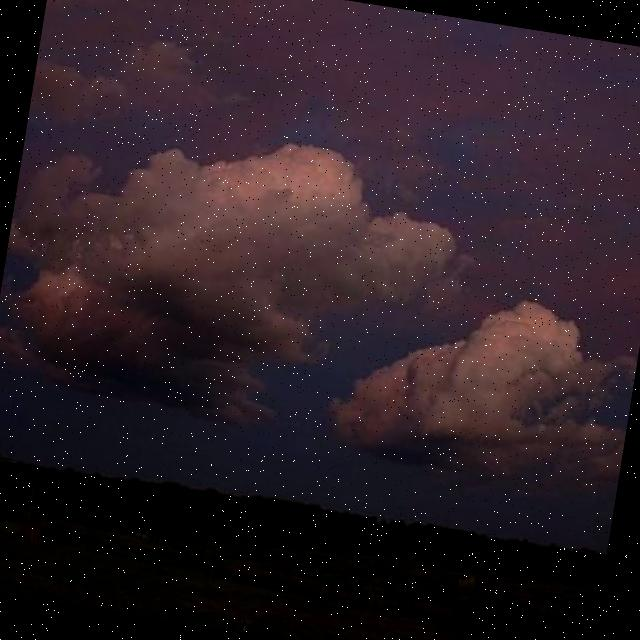As: (1, 98, 504, 465)
